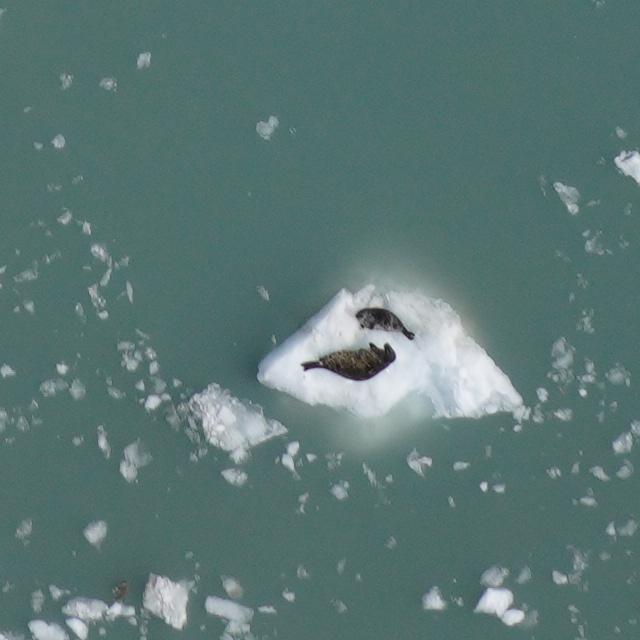seal: (299, 336, 401, 394), (352, 302, 419, 342)
